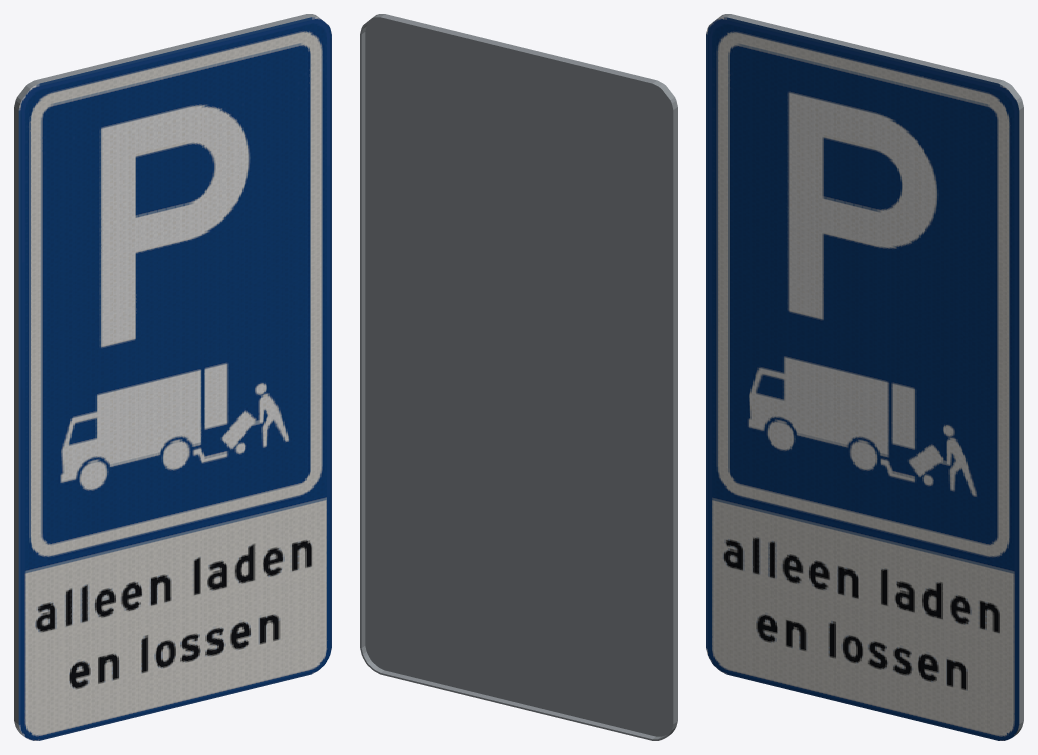
3 views of the same model, side by side, from view 1: azimuth 30°, elevation 25°; view 2: azimuth 150°, elevation 25°; view 3: azimuth 330°, elevation 25° (orthographic).
Parts seen in each view (by area): view 1: cat_be44a4b405cb1586; view 2: cat_be44a4b405cb1586; view 3: cat_be44a4b405cb1586.
Part boxes in pixels (x1,y1,x2,y2): cat_be44a4b405cb1586: (14,14,331,740); cat_be44a4b405cb1586: (360,14,677,740); cat_be44a4b405cb1586: (706,14,1023,740).
Size of the model in its own units: 0.6 by 0.015 by 1.2.
Materials: 2 (1 with a texture image).
